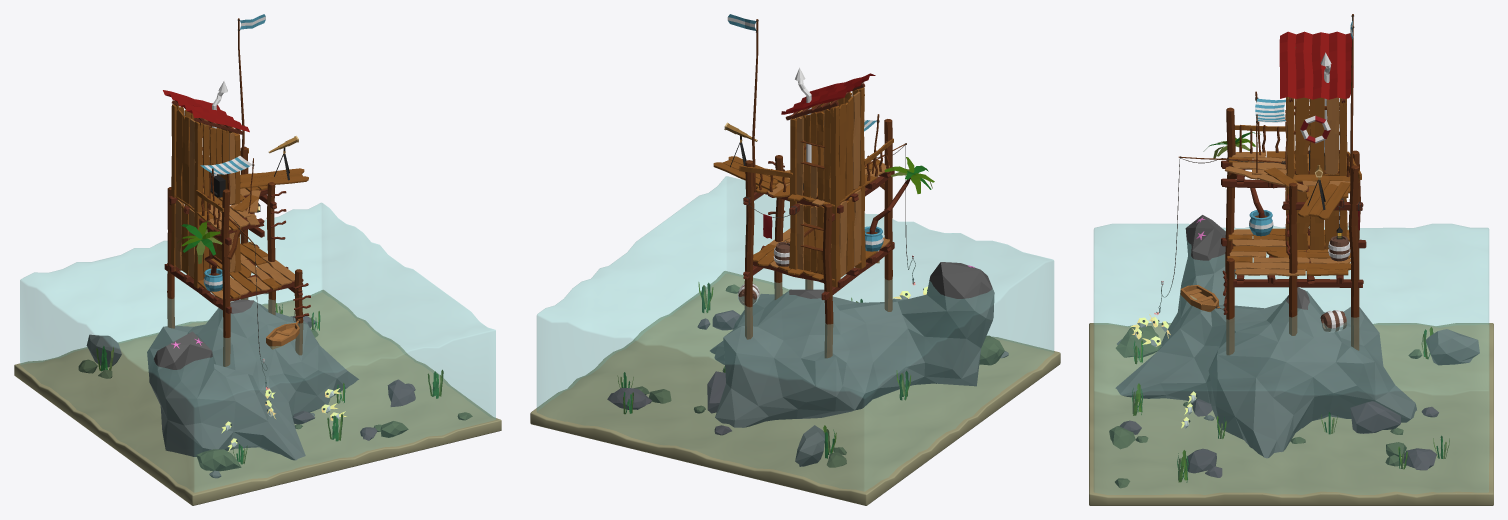
File: sea_shack.glb
The picture shows the model from 3 angles, left to right: view 1: azimuth 30°, elevation 25°; view 2: azimuth 150°, elevation 25°; view 3: azimuth 270°, elevation 25°; orthographic projection. The views are drawn at different scales.
Visible parts, largest first — view 1: Plane, Cube.116, Icosphere, Cylinder.001, Cube.062, Plane.001, Cube.075, Cylinder.003, Cylinder.004, Icosphere.012, Icosphere.006, Cube.074 (+4 smaller); view 2: Plane, Cube.116, Icosphere, Cube.075, Cylinder.002, Cylinder.001, Cylinder.003, Plane.001, Cube.048, Icosphere.006, Cube.062, Cube.074 (+7 smaller); view 3: Plane, Cube.116, Icosphere, Plane.001, Cylinder.002, Icosphere.006, Cylinder.004, Icosphere.019, Cylinder.001, Cube.058, Cube.056, Cube.017 (+15 smaller).
Boxes of the visible parts, x1,y1,x2,y2 form: Plane: (20, 203, 495, 492); Cube.116: (14, 290, 501, 505); Icosphere: (147, 300, 358, 460); Cylinder.001: (221, 189, 230, 366); Cube.062: (193, 121, 203, 288); Plane.001: (163, 90, 249, 132); Cube.075: (170, 104, 179, 271); Cylinder.003: (167, 187, 174, 328); Cylinder.004: (266, 182, 275, 315); Icosphere.012: (196, 449, 241, 471); Icosphere.006: (86, 334, 121, 367); Cube.074: (182, 115, 190, 204); Plane: (537, 176, 1053, 491); Cube.116: (530, 271, 1060, 505); Icosphere: (710, 262, 994, 427); Cube.075: (830, 105, 840, 287); Cylinder.002: (744, 160, 754, 339); Cylinder.001: (884, 119, 892, 311); Cylinder.003: (822, 203, 833, 358); Plane.001: (781, 73, 875, 114); Cube.048: (789, 118, 797, 269); Icosphere.006: (795, 425, 824, 466); Cube.062: (855, 87, 865, 269); Cube.074: (845, 96, 853, 195); Plane: (1094, 224, 1488, 494); Cube.116: (1089, 323, 1493, 505); Icosphere: (1115, 215, 1416, 458); Plane.001: (1279, 31, 1353, 99); Cylinder.002: (1348, 165, 1359, 350); Icosphere.006: (1425, 329, 1479, 365); Cylinder.004: (1288, 182, 1297, 335); Icosphere.019: (1350, 401, 1400, 433); Cylinder.001: (1225, 107, 1235, 295); Cube.058: (1324, 97, 1339, 174); Cube.056: (1295, 97, 1309, 174); Cube.017: (1223, 279, 1363, 287).
Size of the model in its own units: 15.48 by 17.34 by 15.48.
